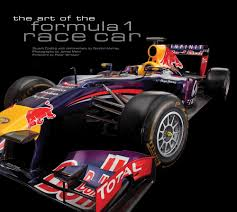f1_car: (1, 33, 232, 211)
